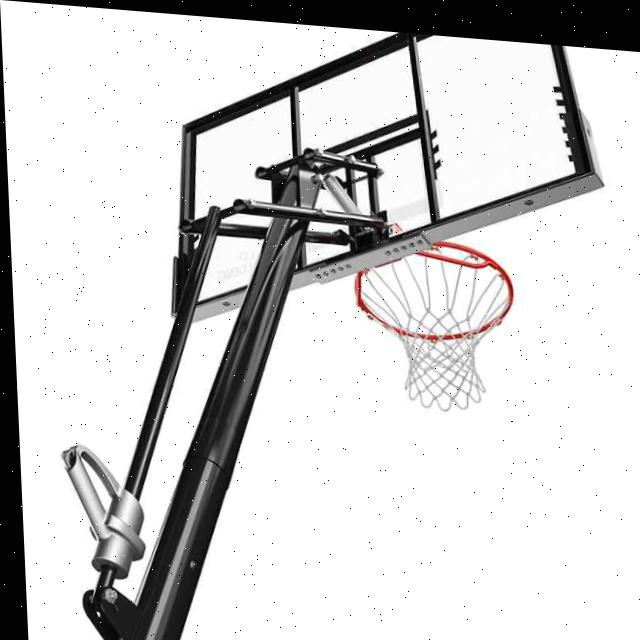hoop: (353, 234, 520, 418)
